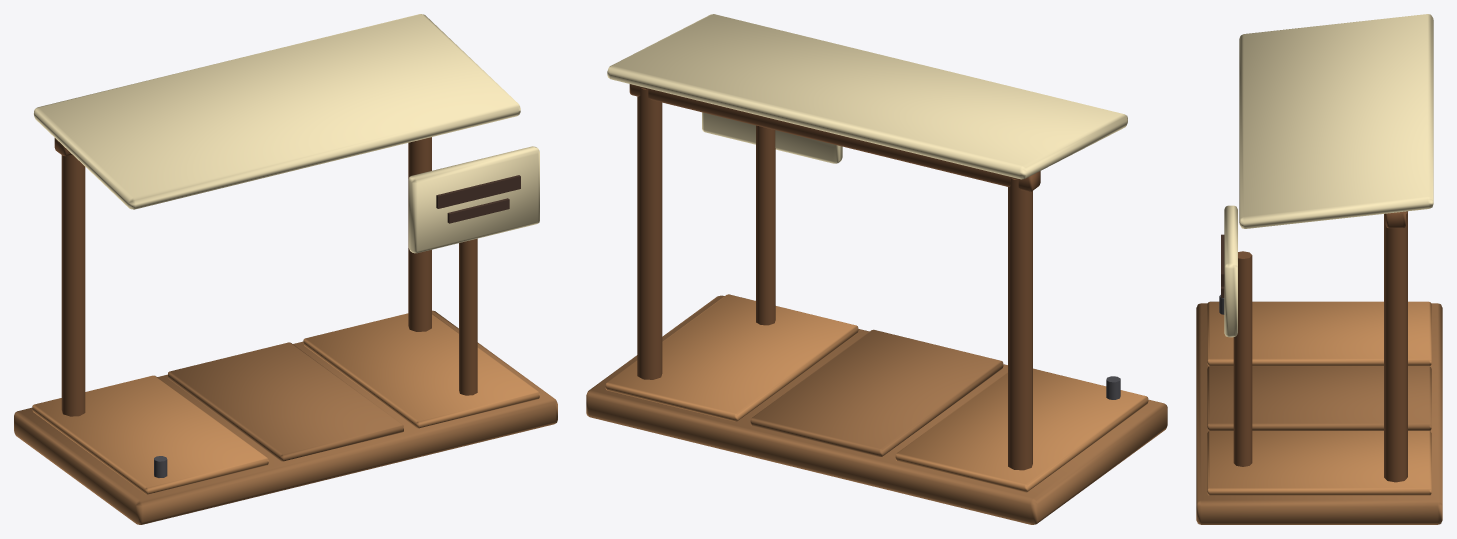
The model's file is v_station.glb.
3 renders of one model, left to right at view 1: azimuth 30°, elevation 25°; view 2: azimuth 150°, elevation 25°; view 3: azimuth 270°, elevation 25°, orthographic. The views are drawn at different scales.
Visible parts, largest first — view 1: Station; view 2: Station; view 3: Station.
Boxes of the visible parts, x1,y1,x2,y2 form: Station: [14, 14, 557, 524]; Station: [586, 14, 1167, 524]; Station: [1196, 14, 1442, 524].
Size of the model in its own units: 2.8 by 2.08 by 1.45.
